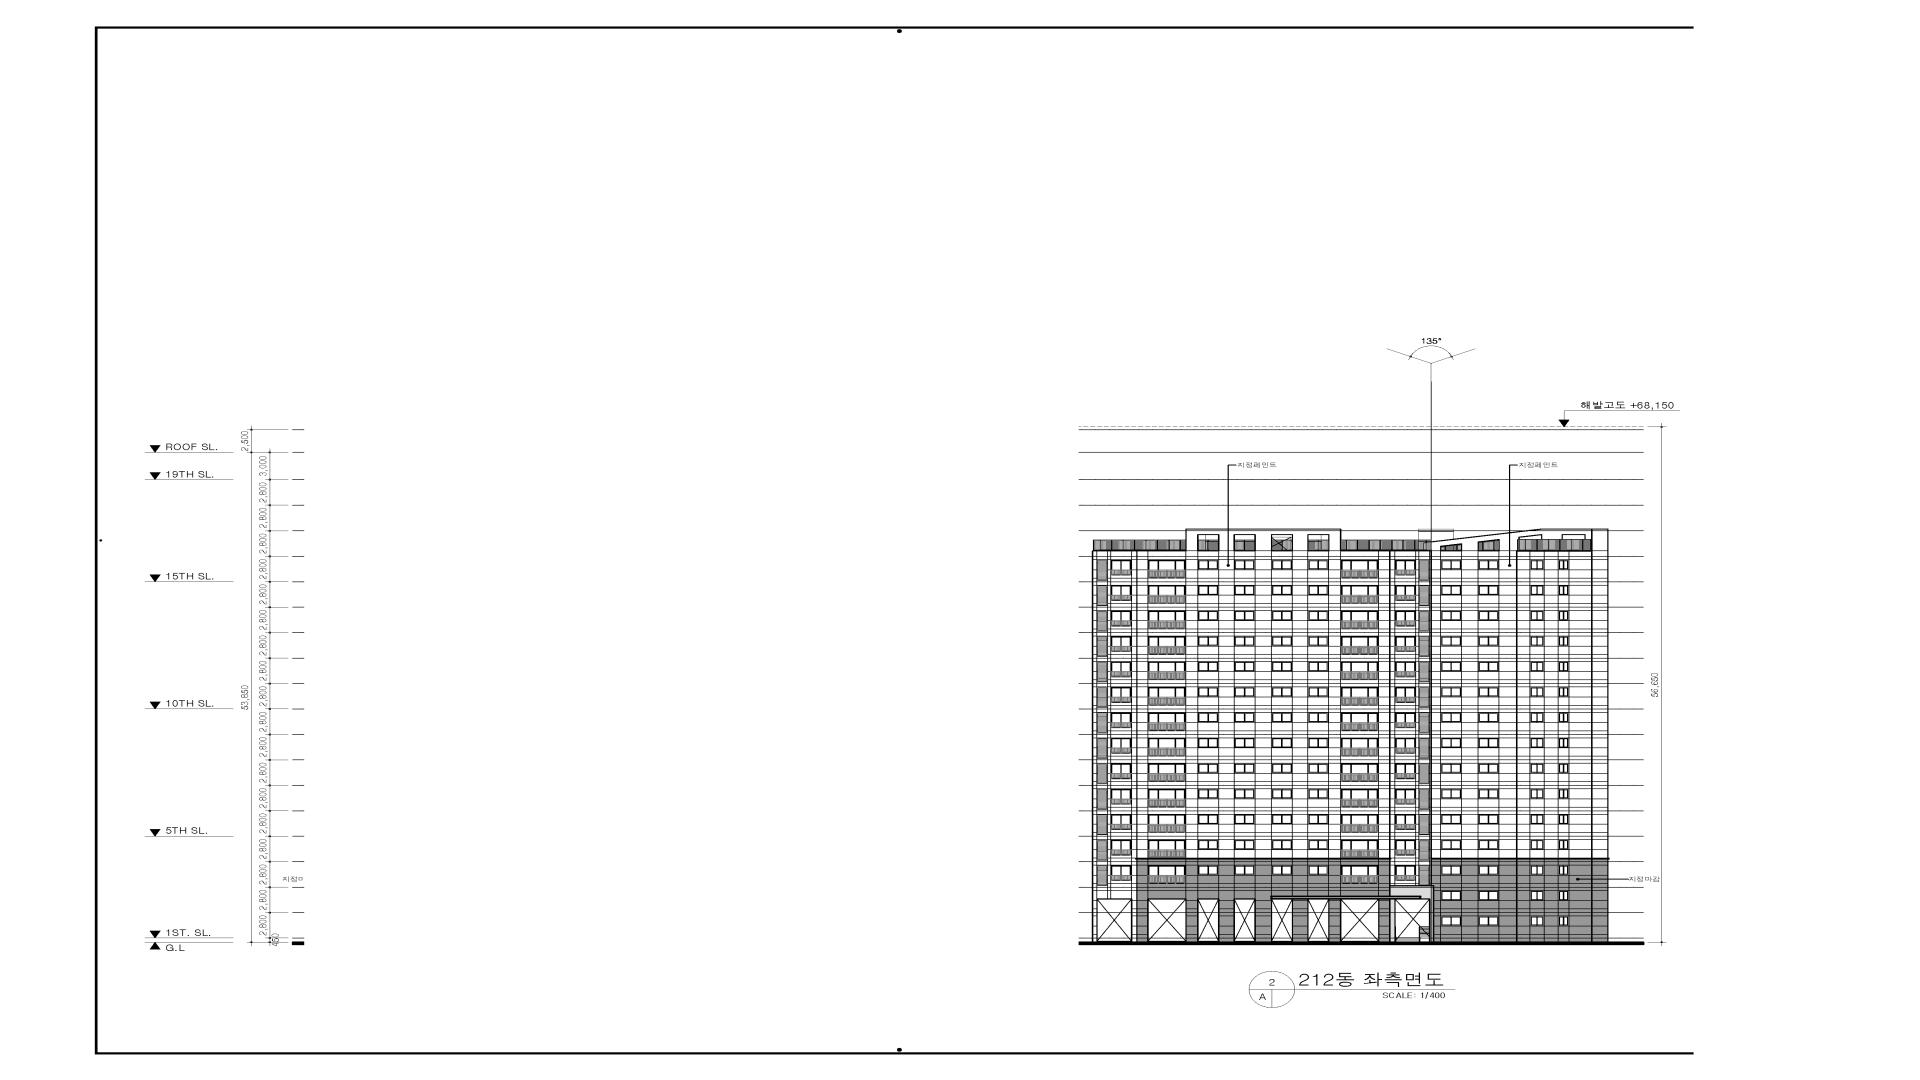door: (1147, 898, 1187, 942), (1340, 898, 1379, 942), (1096, 898, 1133, 942), (1394, 898, 1431, 942), (1197, 898, 1220, 942), (1233, 898, 1255, 942), (1307, 898, 1329, 942), (1271, 898, 1292, 942)
wall: (1092, 529, 1609, 942)
window: (1147, 559, 1187, 579), (1147, 636, 1187, 655), (1147, 661, 1187, 680), (1340, 712, 1379, 732), (1340, 737, 1379, 757), (1147, 814, 1187, 833), (1340, 814, 1379, 833), (1147, 839, 1187, 858), (1340, 839, 1379, 858), (1341, 559, 1379, 579), (1147, 737, 1185, 757), (1340, 585, 1379, 604), (1147, 611, 1187, 629), (1340, 611, 1379, 629), (1340, 636, 1379, 654), (1340, 662, 1379, 680), (1147, 687, 1187, 705), (1340, 687, 1379, 705), (1147, 712, 1187, 731), (1340, 764, 1379, 782), (1340, 789, 1379, 807), (1147, 865, 1187, 884), (1340, 865, 1379, 884), (1147, 585, 1185, 604), (1147, 764, 1185, 782), (1147, 789, 1185, 807), (1197, 534, 1220, 551), (1233, 534, 1255, 551), (1271, 534, 1294, 551), (1307, 534, 1329, 551), (1394, 661, 1416, 678), (1394, 737, 1416, 754), (1394, 839, 1416, 856), (1110, 661, 1131, 678), (1110, 737, 1131, 754), (1110, 839, 1131, 856), (1110, 559, 1133, 575), (1394, 559, 1416, 575), (1394, 585, 1416, 601), (1394, 611, 1416, 626), (1394, 636, 1416, 651), (1394, 687, 1416, 703), (1394, 712, 1416, 728), (1394, 764, 1416, 779), (1394, 814, 1416, 829), (1394, 865, 1416, 881), (1110, 585, 1131, 601), (1110, 611, 1131, 626), (1110, 636, 1131, 651), (1110, 687, 1131, 703), (1110, 712, 1131, 728), (1110, 764, 1131, 779), (1110, 789, 1131, 804), (1395, 789, 1416, 804), (1110, 814, 1131, 829), (1110, 865, 1131, 881), (1096, 839, 1108, 861), (1096, 559, 1108, 580), (1096, 611, 1108, 632), (1096, 636, 1108, 657), (1096, 687, 1108, 708), (1096, 712, 1108, 733), (1096, 737, 1108, 758), (1096, 789, 1108, 810), (1096, 814, 1108, 835), (1096, 865, 1108, 886), (1197, 839, 1218, 851), (1234, 839, 1255, 851), (1271, 839, 1292, 851), (1440, 839, 1461, 851), (1478, 839, 1499, 851), (1097, 762, 1108, 785), (1307, 585, 1329, 596), (1307, 611, 1329, 621), (1197, 636, 1220, 646), (1307, 636, 1329, 646), (1197, 661, 1220, 671), (1307, 661, 1329, 671), (1307, 687, 1329, 698), (1307, 712, 1329, 723), (1197, 737, 1220, 748), (1307, 737, 1329, 748), (1307, 789, 1329, 799), (1307, 814, 1329, 824), (1307, 839, 1329, 849), (1197, 865, 1220, 876), (1307, 865, 1329, 876), (1440, 611, 1462, 621), (1440, 661, 1462, 671), (1440, 737, 1462, 748), (1440, 890, 1462, 901), (1477, 890, 1499, 901), (1096, 662, 1108, 682), (1197, 559, 1218, 570), (1234, 559, 1255, 570), (1271, 559, 1292, 570), (1308, 559, 1329, 570), (1419, 559, 1429, 580), (1440, 559, 1461, 570), (1478, 559, 1499, 570), (1419, 611, 1429, 632), (1419, 636, 1429, 657), (1419, 687, 1429, 708), (1419, 712, 1429, 733), (1419, 737, 1429, 758), (1419, 764, 1429, 785), (1419, 789, 1429, 810), (1419, 814, 1429, 835), (1419, 839, 1429, 860), (1197, 585, 1218, 596), (1234, 585, 1255, 596), (1271, 585, 1292, 596), (1197, 611, 1218, 621), (1234, 611, 1255, 621), (1271, 611, 1292, 621), (1234, 636, 1255, 646), (1271, 636, 1292, 646), (1271, 661, 1292, 671), (1197, 687, 1218, 698), (1234, 687, 1255, 698), (1271, 687, 1292, 698), (1197, 712, 1218, 723), (1234, 712, 1255, 723), (1271, 712, 1292, 723), (1234, 737, 1255, 748), (1271, 737, 1292, 748), (1197, 764, 1218, 774), (1234, 764, 1255, 774), (1271, 764, 1292, 774), (1308, 764, 1329, 774), (1197, 789, 1218, 799), (1234, 789, 1255, 799), (1271, 789, 1292, 799), (1197, 814, 1218, 824), (1234, 814, 1255, 824), (1271, 814, 1292, 824), (1234, 865, 1255, 876), (1271, 865, 1292, 876), (1440, 585, 1461, 596), (1478, 611, 1499, 621), (1440, 636, 1461, 646), (1478, 636, 1499, 646), (1478, 661, 1499, 671), (1440, 687, 1461, 698), (1478, 687, 1499, 698), (1440, 712, 1461, 723), (1478, 712, 1499, 723), (1478, 737, 1499, 748), (1440, 764, 1461, 774), (1478, 764, 1499, 774), (1440, 789, 1461, 799), (1478, 789, 1499, 799), (1440, 814, 1461, 824), (1478, 814, 1499, 824), (1440, 865, 1461, 876), (1478, 865, 1499, 876), (1440, 915, 1461, 926), (1478, 915, 1499, 926), (1097, 585, 1108, 605), (1419, 585, 1429, 605), (1419, 662, 1429, 682), (1419, 865, 1429, 885), (1234, 662, 1255, 671), (1478, 585, 1499, 595), (1530, 839, 1544, 851), (1530, 915, 1544, 927), (1530, 559, 1544, 570), (1530, 585, 1544, 596), (1530, 611, 1544, 621), (1530, 636, 1544, 646), (1530, 687, 1544, 698), (1530, 712, 1544, 723), (1530, 737, 1544, 748), (1530, 764, 1544, 774), (1530, 789, 1544, 799), (1530, 814, 1544, 824), (1530, 865, 1544, 876), (1530, 890, 1544, 901), (1557, 839, 1569, 851), (1557, 915, 1569, 927), (1530, 662, 1544, 671), (1557, 559, 1569, 570), (1557, 585, 1569, 596), (1557, 611, 1569, 621), (1557, 636, 1569, 646), (1557, 661, 1569, 671), (1557, 687, 1569, 698), (1557, 712, 1569, 723), (1557, 737, 1569, 748), (1557, 764, 1569, 774), (1557, 789, 1569, 799), (1557, 814, 1569, 824), (1557, 865, 1569, 876), (1557, 890, 1569, 901)
